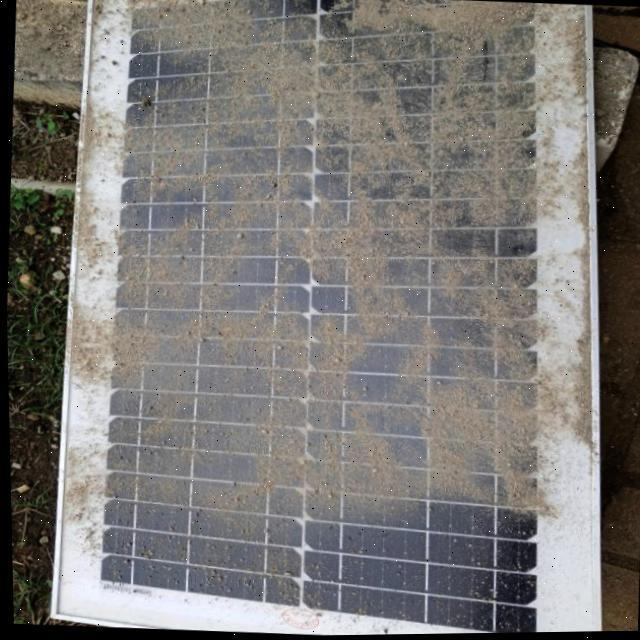Surface Contaminant: (83, 0, 578, 633)
